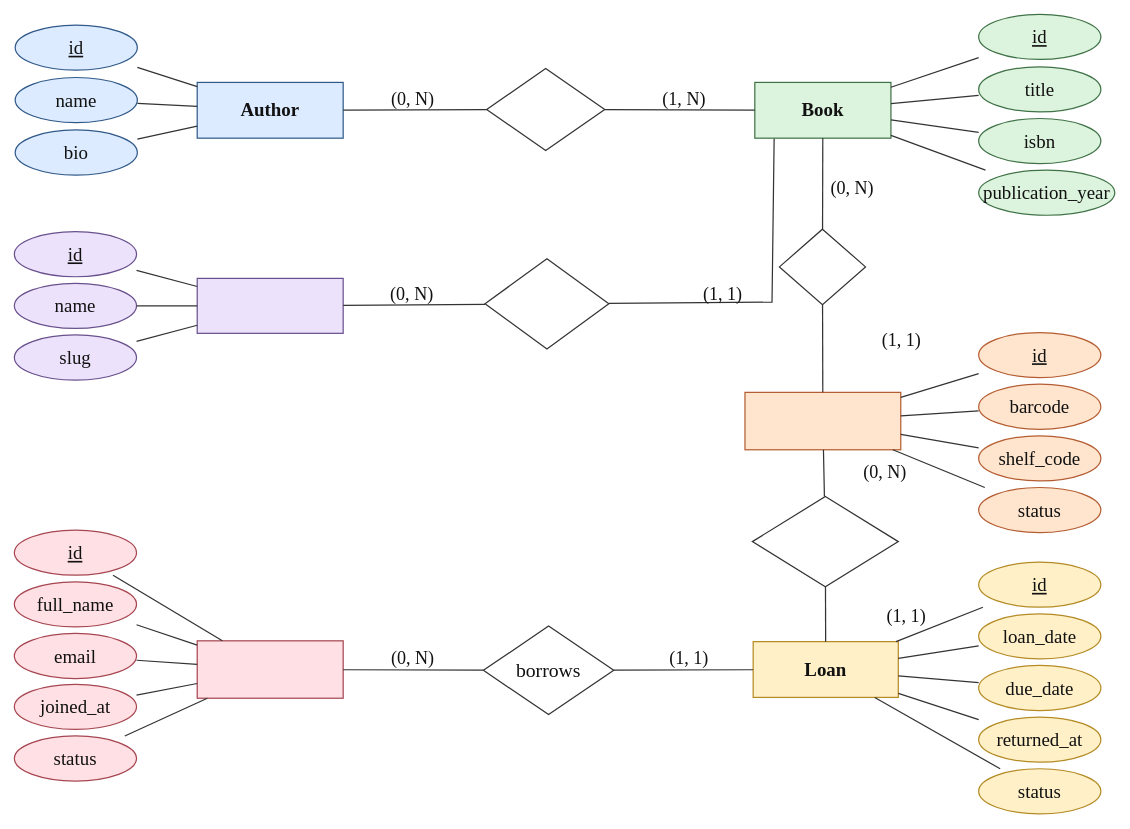
Some shapes in this 1130 by 829 pixel diagram are drawn without their labels. Here are the shapes that lost their labels. From the top down, the box of each, then its label:
(486, 67, 605, 151): writes
(778, 228, 866, 305): has
(196, 277, 343, 334): Category
(484, 258, 609, 349): classifies
(744, 391, 901, 450): BookCopy
(751, 496, 899, 587): appears_in
(196, 640, 343, 698): Member
